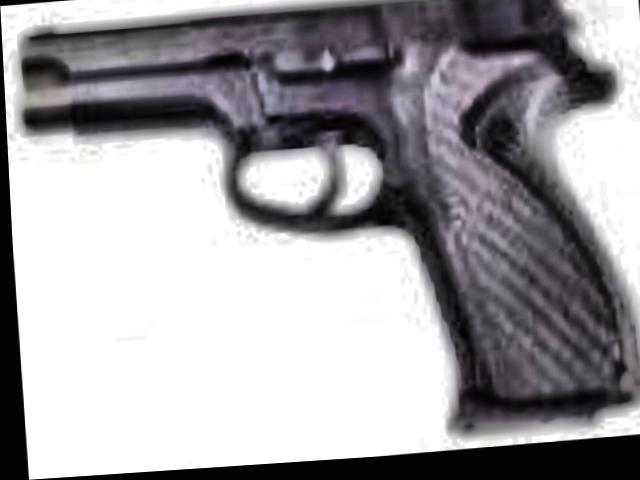pistol: (8, 0, 640, 480)
